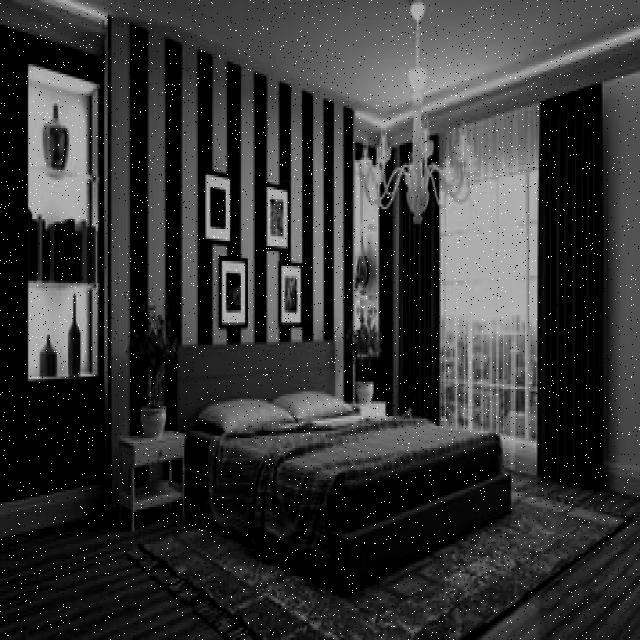bed: (186, 381, 502, 553)
